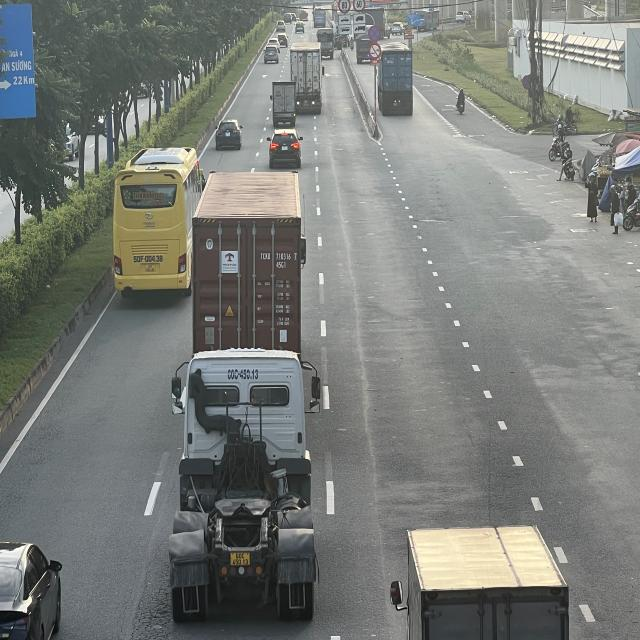car: (0, 542, 64, 640), (268, 129, 304, 169), (216, 120, 245, 152)
coach: (113, 146, 204, 298)
container: (170, 343, 324, 617), (196, 174, 310, 364), (376, 42, 416, 114), (292, 42, 325, 112)
truck: (391, 526, 568, 638), (272, 80, 298, 127)
